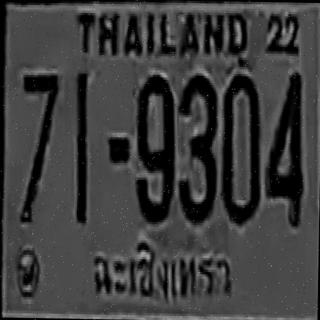N00: (220, 71, 261, 224)
N01: (74, 71, 89, 223)
N03: (177, 73, 217, 223)
N04: (265, 70, 305, 224)
N07: (19, 72, 59, 222), (21, 72, 58, 178)
N09: (134, 72, 175, 222)
P07: (90, 236, 235, 311)
